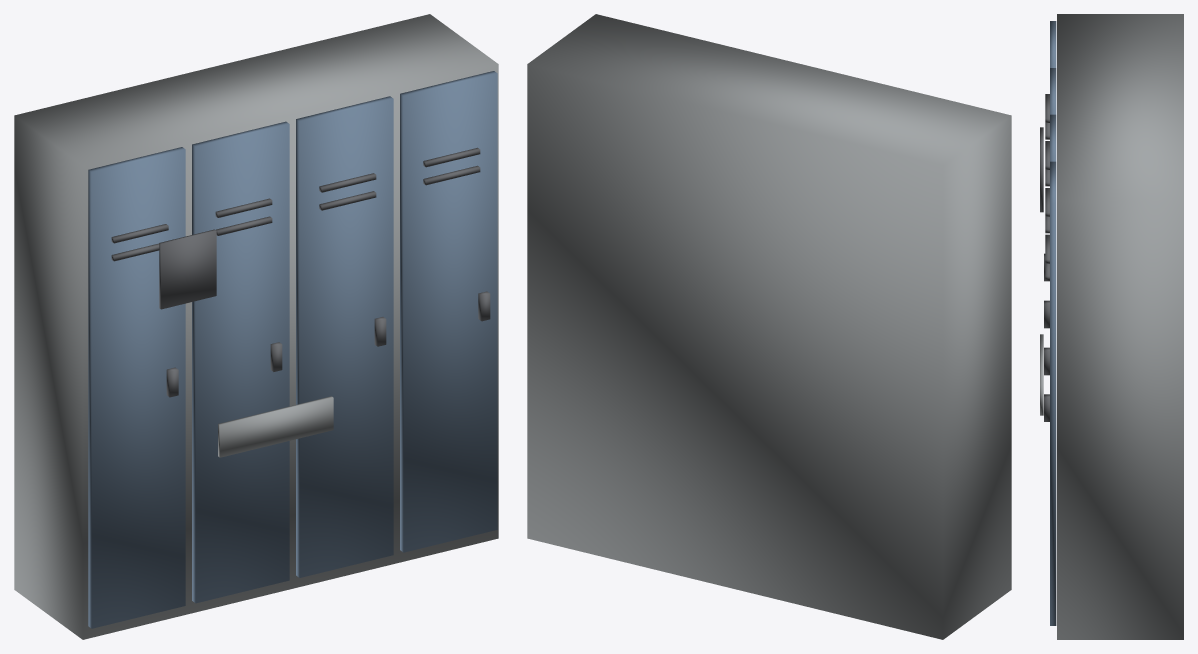
Rendered from evidence_locker__weathered.glb.
3 renders of one model, left to right at view 1: azimuth 30°, elevation 25°; view 2: azimuth 150°, elevation 25°; view 3: azimuth 270°, elevation 25°, orthographic. The views are drawn at different scales.
Visible parts, largest first — view 1: world; view 2: world; view 3: world.
Boxes of the visible parts, bbox=[...] form: world: bbox=[14, 14, 498, 639]; world: bbox=[527, 14, 1011, 639]; world: bbox=[1040, 14, 1183, 639].
Size of the model in its own units: 1.68 by 1.83 by 0.5446.
